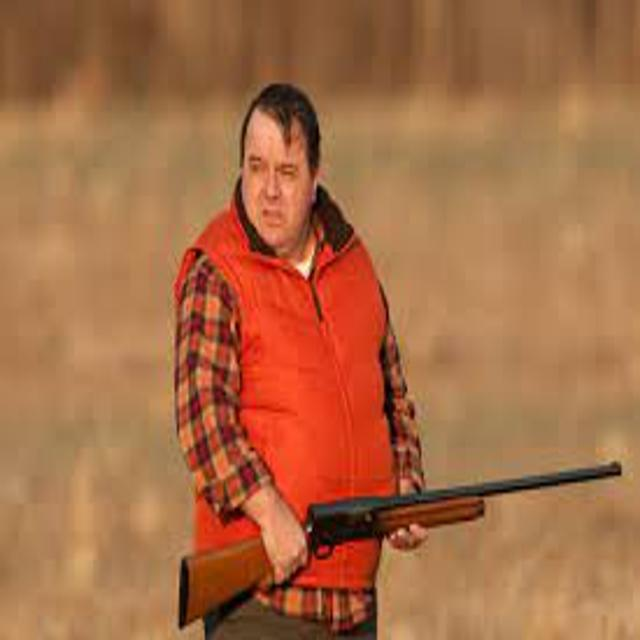gun: (136, 393, 638, 640)
poacher: (125, 47, 487, 640)
